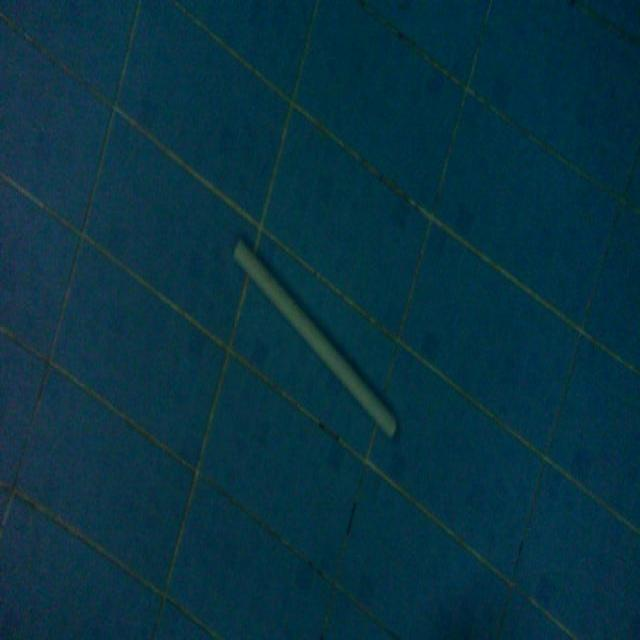Cube: (230, 231, 399, 443)
